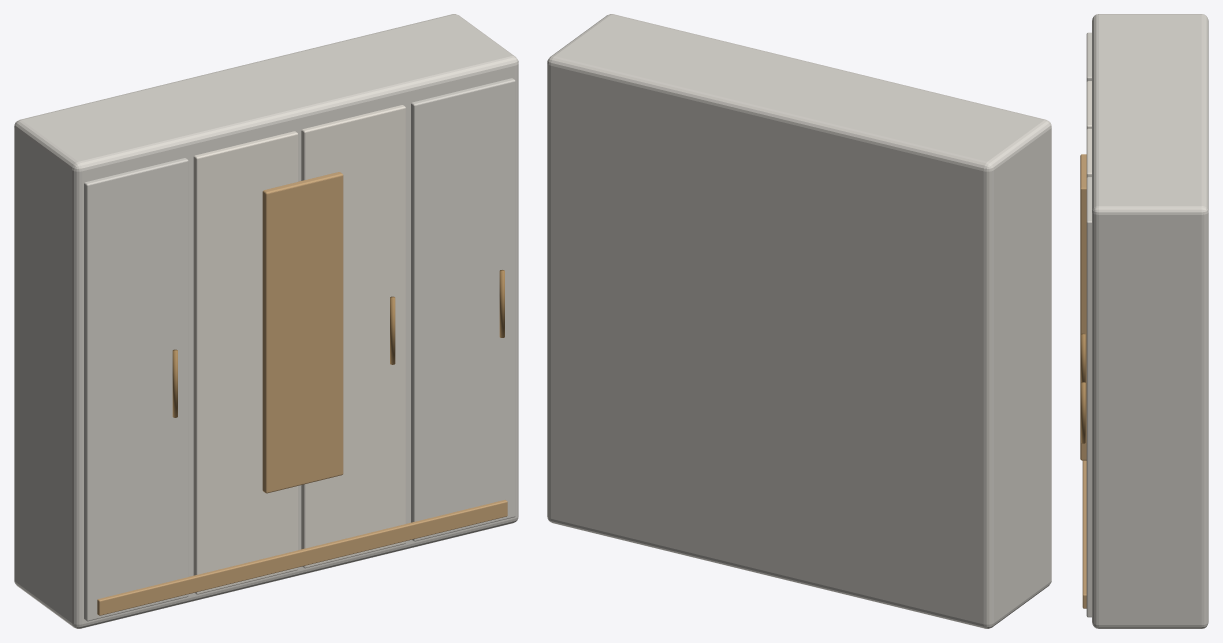
File: wardrobe.glb
The picture shows the model from 3 angles, left to right: view 1: azimuth 30°, elevation 25°; view 2: azimuth 150°, elevation 25°; view 3: azimuth 270°, elevation 25°; orthographic projection. The views are drawn at different scales.
Visible parts, largest first — view 1: CANONICAL carcass, CANONICAL door 1, CANONICAL door 4, CANONICAL door 2, CANONICAL door 3, ACCENT oak niche, ACCENT oak reveal; view 2: CANONICAL carcass; view 3: CANONICAL carcass, CANONICAL door 4, ACCENT oak niche, ACCENT oak reveal, ACCENT handle.003, CANONICAL door 1, CANONICAL door 3, CANONICAL door 2, ACCENT handle.002.
Part boxes in pixels (x1,y1,x2,y2): CANONICAL carcass: (14, 14, 518, 628); CANONICAL door 1: (84, 158, 188, 621); CANONICAL door 4: (411, 78, 515, 541); CANONICAL door 2: (193, 131, 298, 594); CANONICAL door 3: (301, 105, 405, 568); ACCENT oak niche: (262, 172, 343, 493); ACCENT oak reveal: (97, 500, 507, 615); CANONICAL carcass: (547, 14, 1051, 628); CANONICAL carcass: (1092, 14, 1208, 628); CANONICAL door 4: (1086, 177, 1091, 617); ACCENT oak niche: (1080, 154, 1086, 460); ACCENT oak reveal: (1082, 460, 1086, 608); ACCENT handle.003: (1081, 382, 1085, 443); CANONICAL door 1: (1086, 32, 1091, 81); CANONICAL door 3: (1086, 128, 1091, 177); CANONICAL door 2: (1086, 81, 1091, 129); ACCENT handle.002: (1081, 333, 1085, 382).
Bounding box in the file's own units: 2.4 × 2.4 × 0.66.
